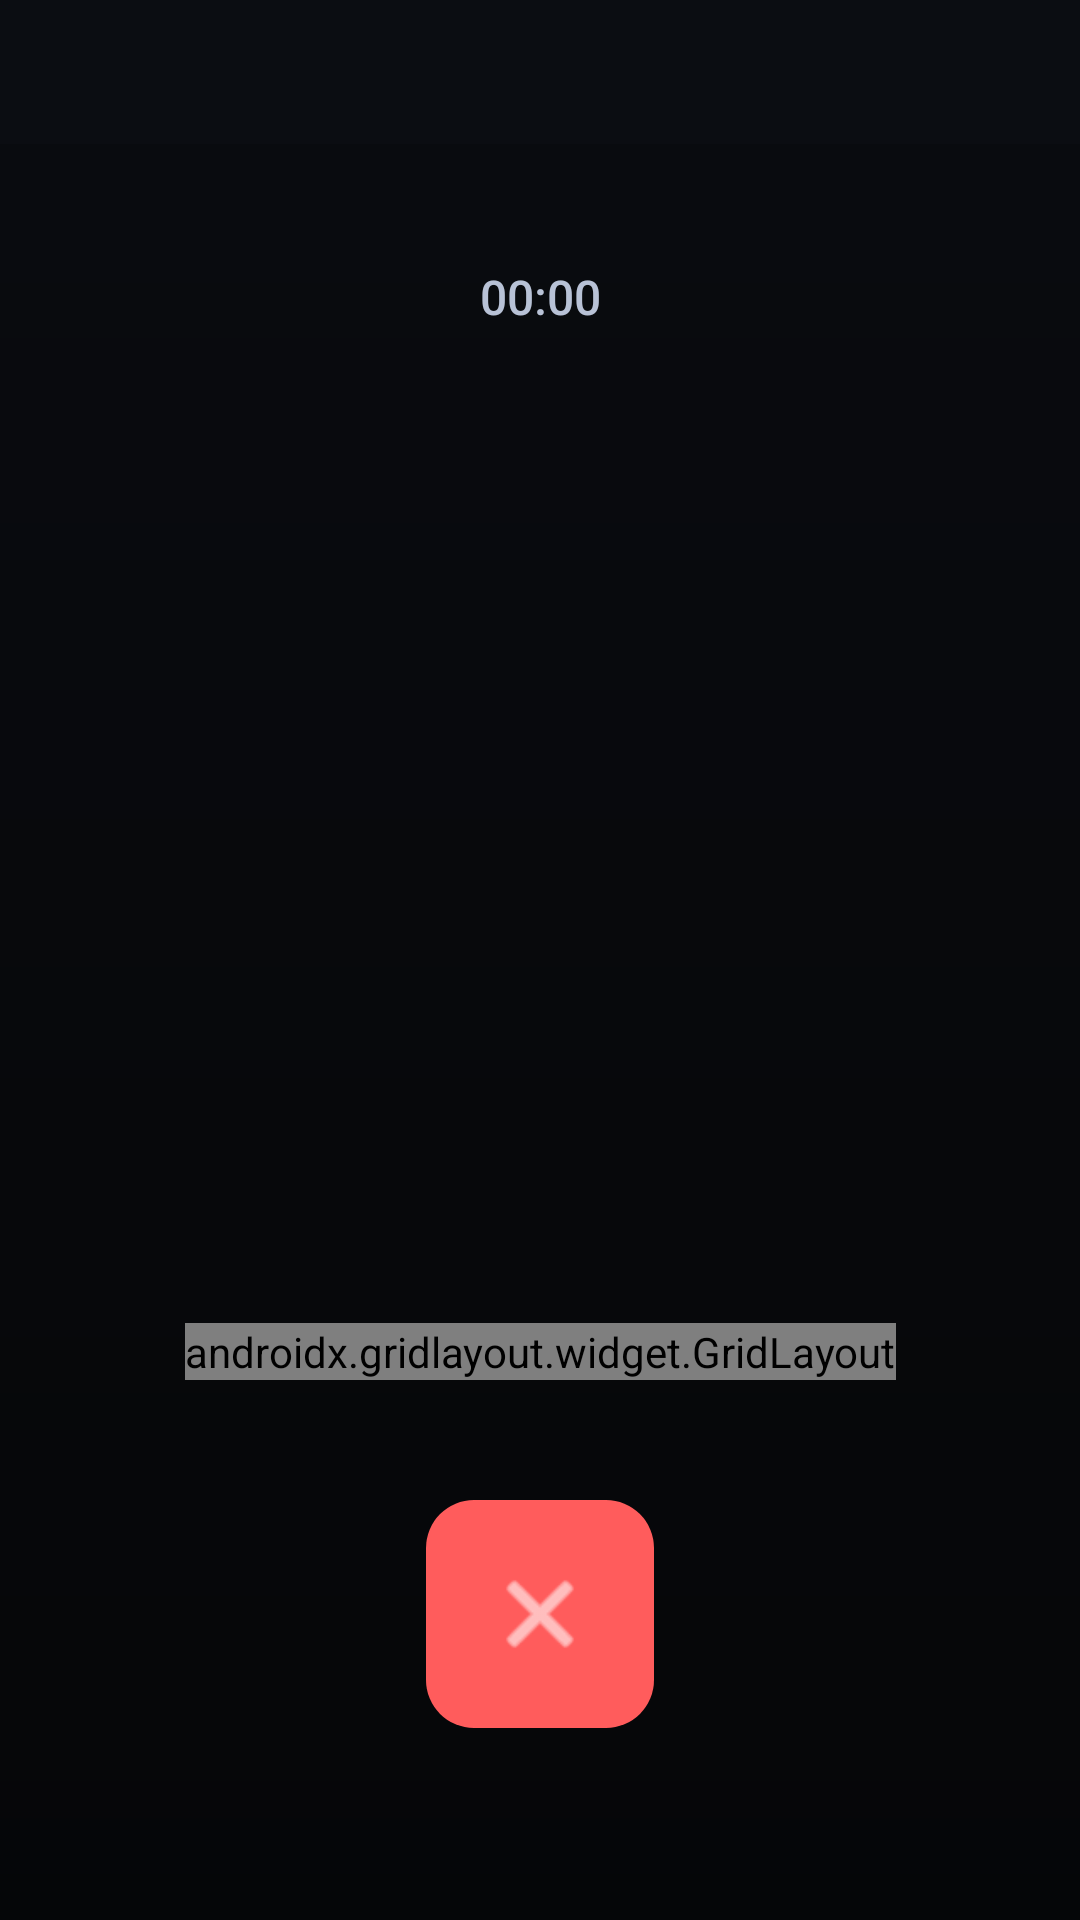

Icon click points for this 1080 x 1920 phone screenshot, format (x=x, y=y):
End call: (x=540, y=1614)
